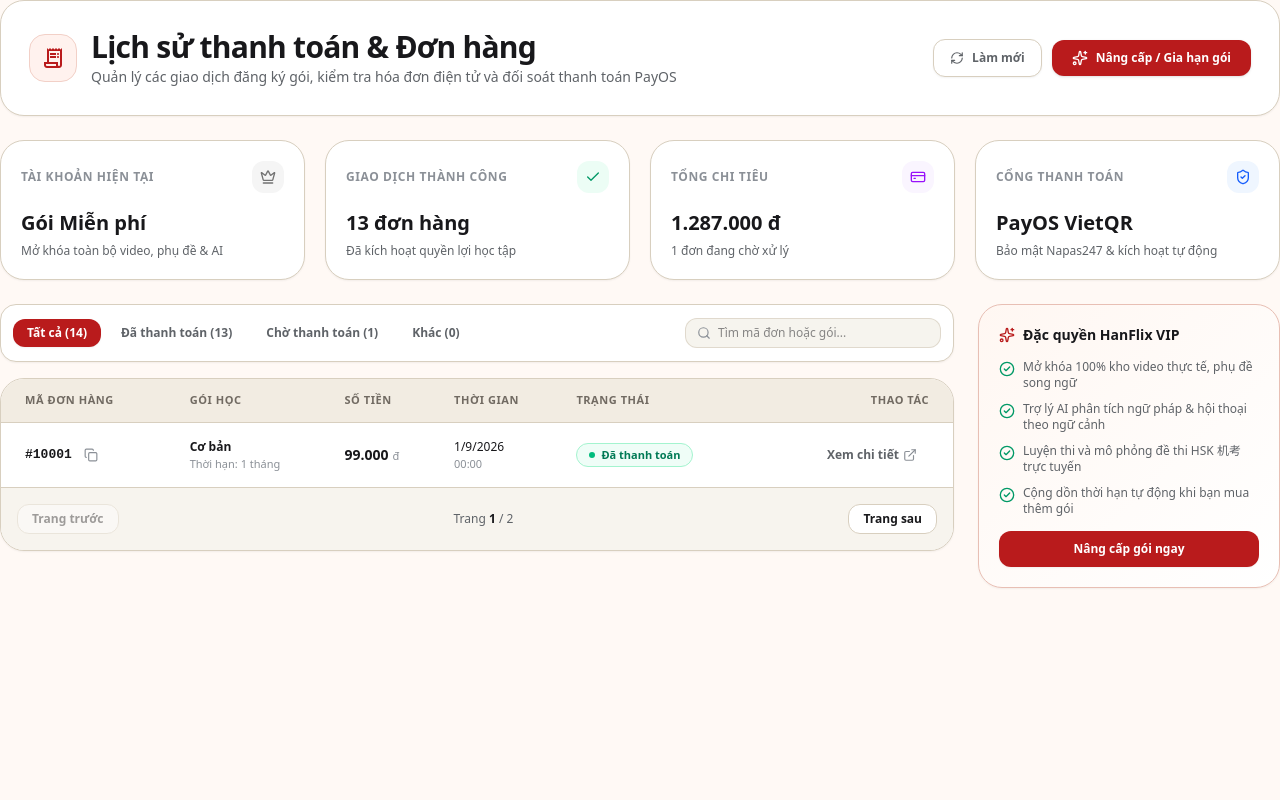
Scenario: resets pagination and sends the status filter to the server
The image size is (1280, 800).
Click the button "Trang sau" at [893, 519], box x1=848 y1=504 x2=937 y2=534
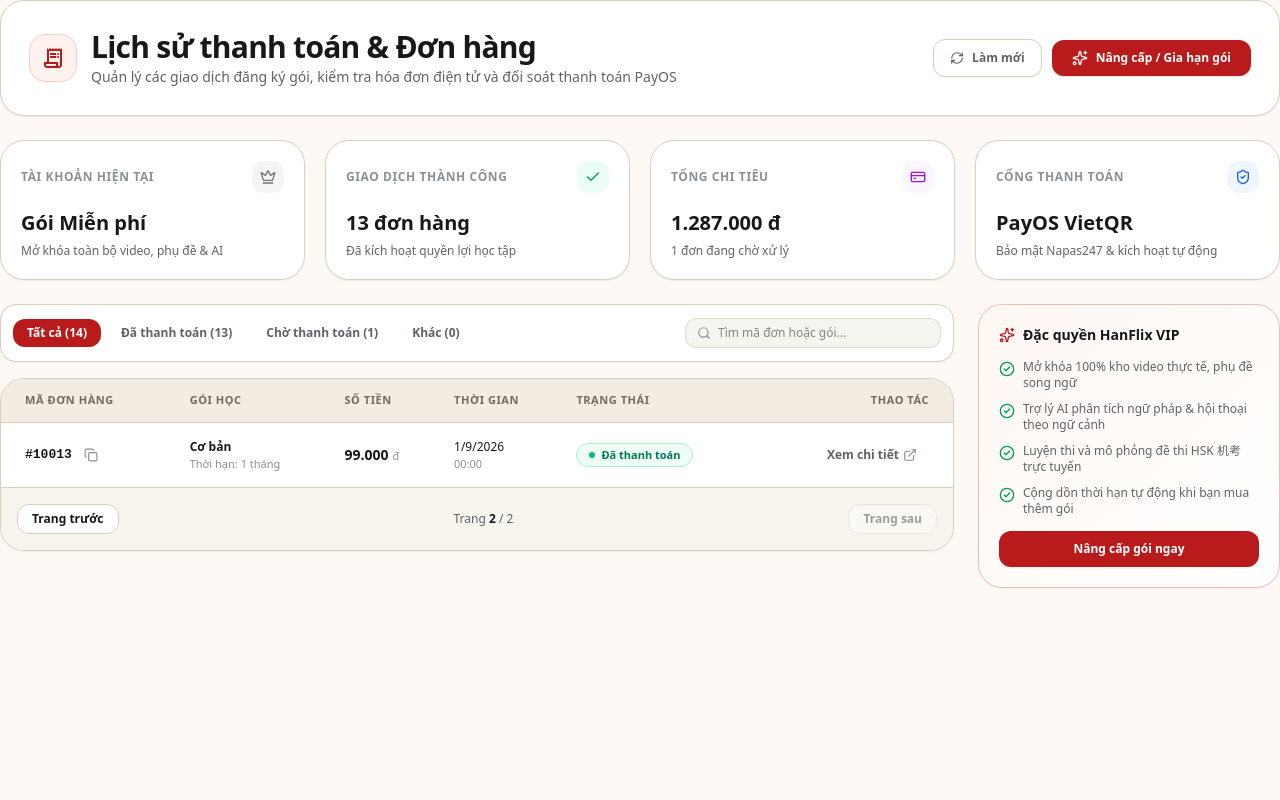
Expected: the text "1.287.000 đ" is shown, x1=671 y1=209 x2=781 y2=236
Click the button "Đã thanh toán (13)" at [177, 333], box x1=107 y1=319 x2=246 y2=347
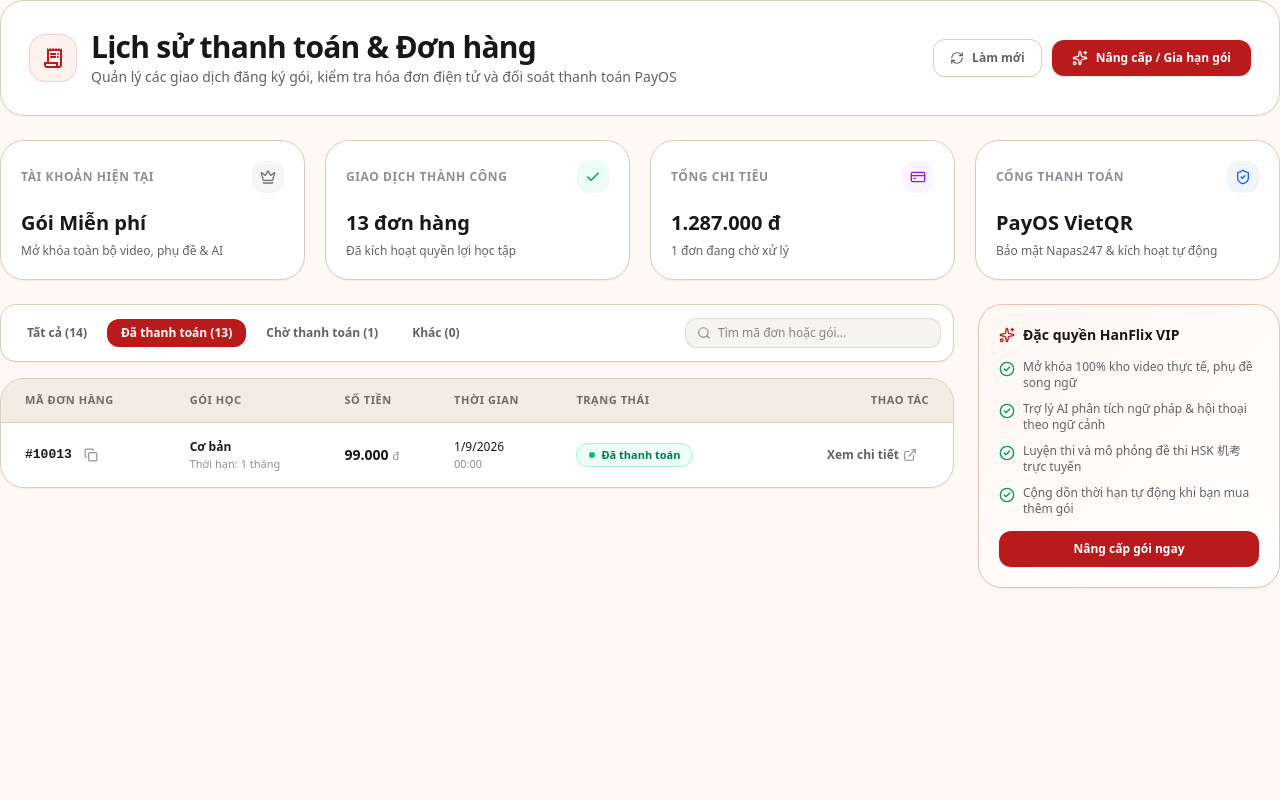
Expected: the text "1.287.000 đ" is shown, x1=671 y1=209 x2=781 y2=236
Expected: the button "Trang sau" is gone
